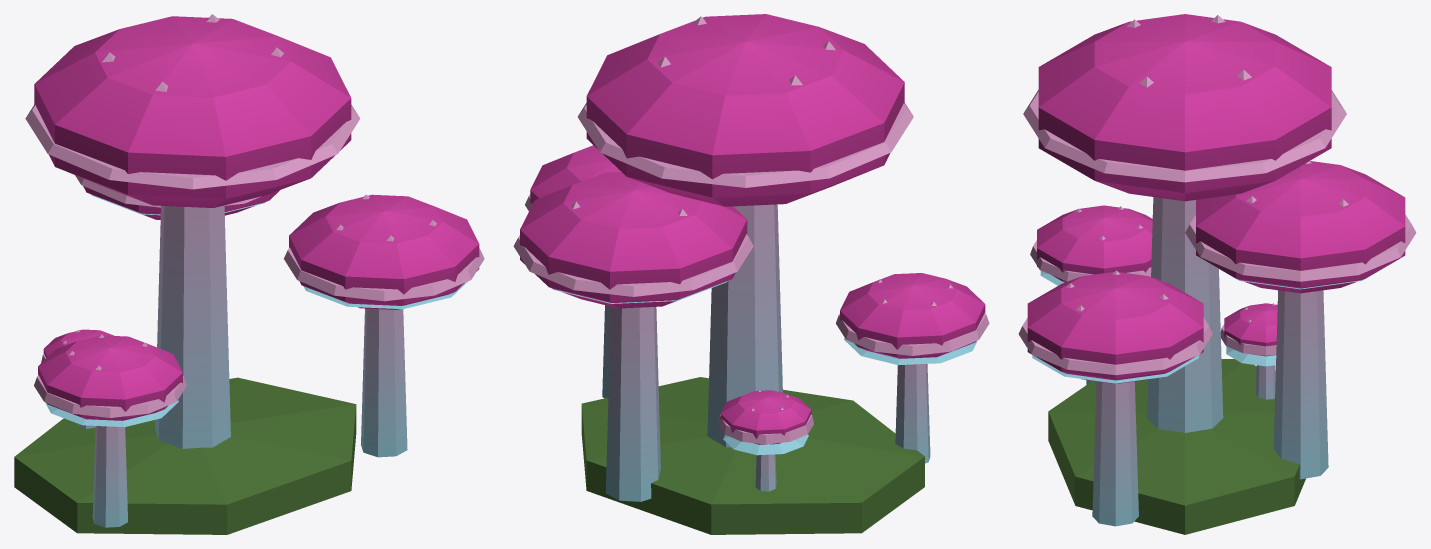
The model's file is neon_mushrooms_pink.glb.
The picture shows the model from 3 angles, left to right: view 1: azimuth 30°, elevation 25°; view 2: azimuth 150°, elevation 25°; view 3: azimuth 270°, elevation 25°; orthographic projection. The views are drawn at different scales.
Visible parts, largest first — view 1: neon_mushrooms_pink; view 2: neon_mushrooms_pink; view 3: neon_mushrooms_pink.
Boxes of the visible parts, box(x1,y1,x2,y2) form: neon_mushrooms_pink: box(14, 14, 484, 534); neon_mushrooms_pink: box(513, 14, 989, 534); neon_mushrooms_pink: box(1018, 14, 1416, 534).
Bounding box in the file's own units: 2.09 × 2.05 × 1.72.
